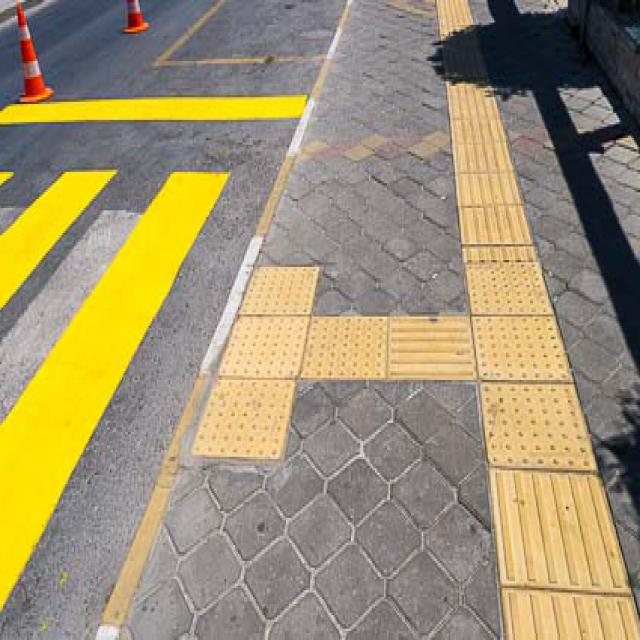tactile-guide-path: (433, 0, 639, 639), (192, 265, 318, 461), (298, 316, 478, 381)
